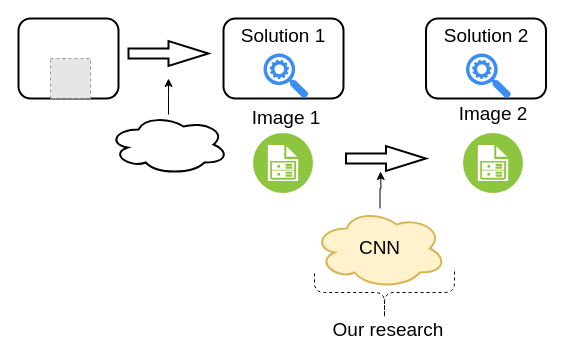
This 564x359 diagram has some shape labels left out. Grey dashed boxes stand in for pictures. Here are the shapes that lost their labels. From the top down, the box of each, then its label:
(17, 17, 119, 99): PDE
(107, 113, 229, 175): FDM
